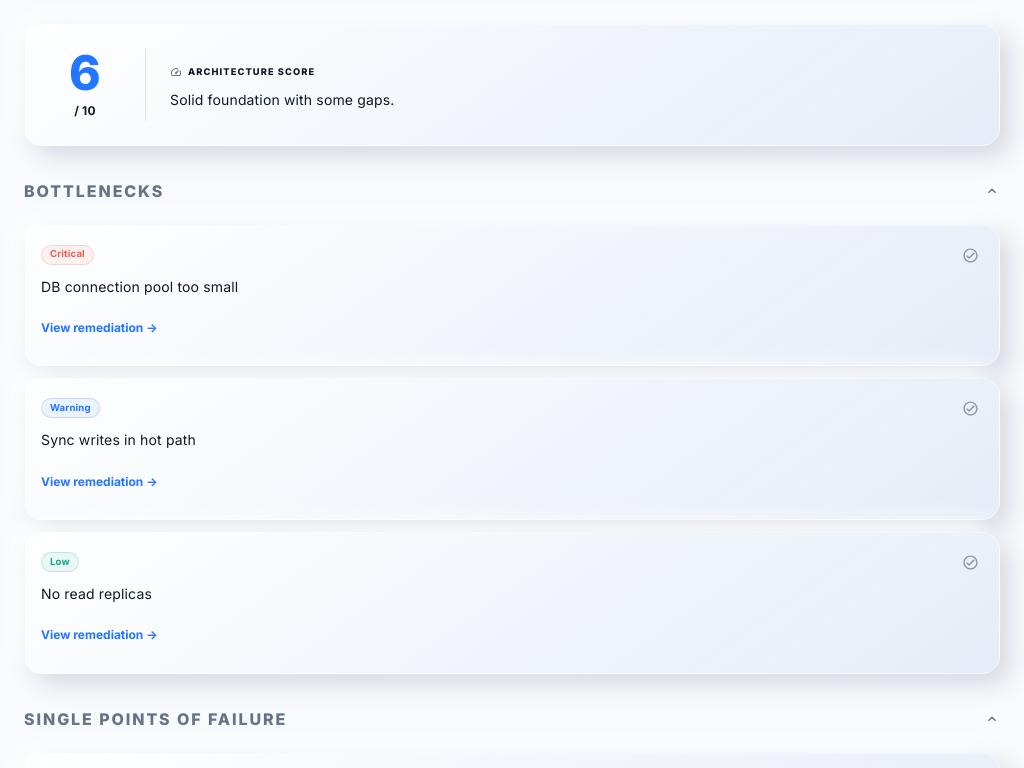
Test: Collapsible sections — item count › shows correct count for a section with 1 item
What coordinates should you click on to do the following:
click the button "Single Points of Failure"
I would click on:
 (156, 719)
Its box is [24, 709, 1000, 729].
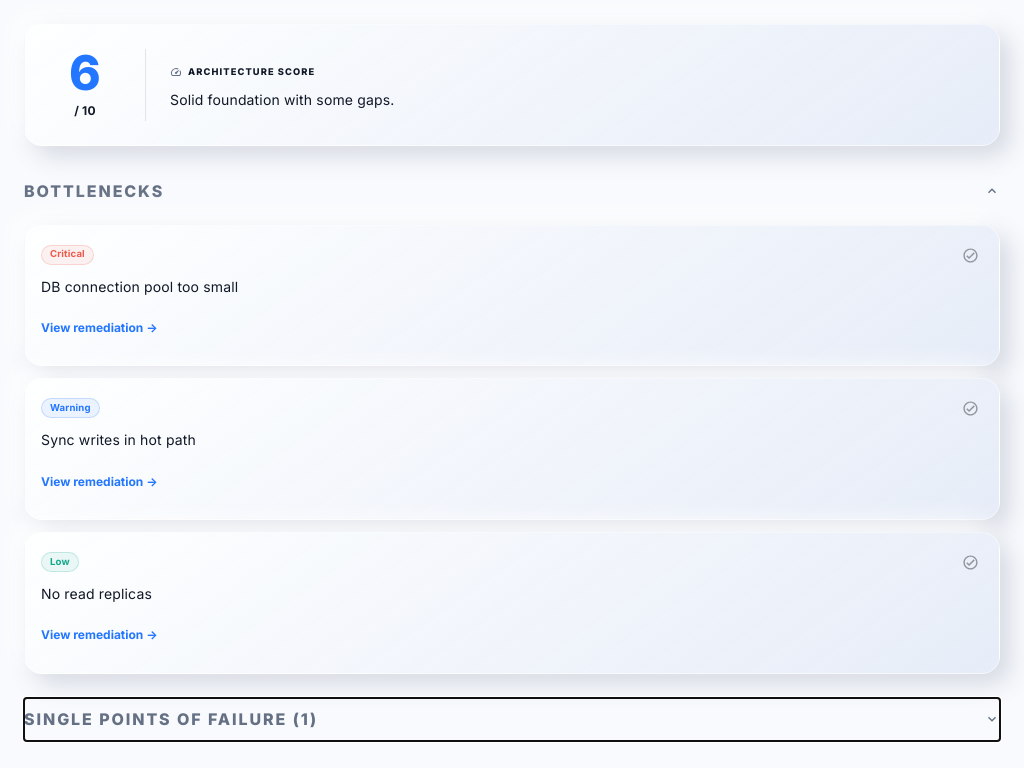
Check: the button "Single Points of Failure (1)" is shown, box [24, 709, 1000, 729]
